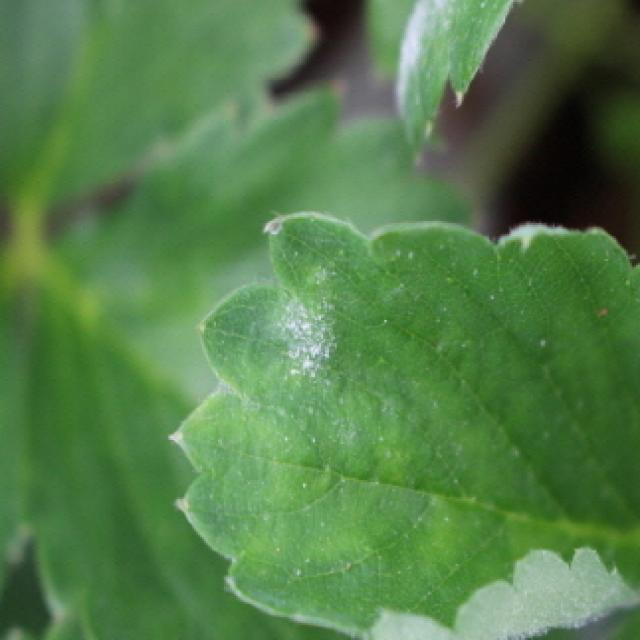Powdery Mildew Leaf: (162, 210, 640, 640), (396, 0, 529, 170)
